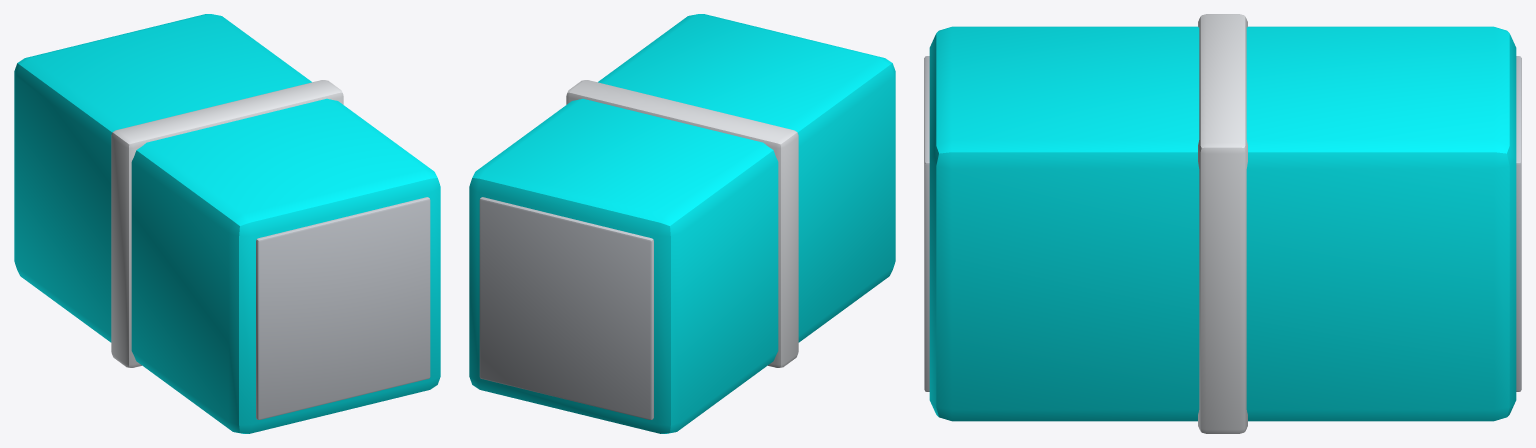
The model's file is magnet_pole.glb.
The picture shows the model from 3 angles, left to right: view 1: azimuth 30°, elevation 25°; view 2: azimuth 150°, elevation 25°; view 3: azimuth 270°, elevation 25°; orthographic projection. The views are drawn at different scales.
Visible parts, largest first — view 1: Cube; view 2: Cube; view 3: Cube.
Part boxes in pixels (x1=…): Cube: x1=14, y1=14, x2=440, y2=433; Cube: x1=469, y1=14, x2=895, y2=433; Cube: x1=924, y1=14, x2=1521, y2=433.
Size of the model in its own units: 1.16 by 1.16 by 2.16.
